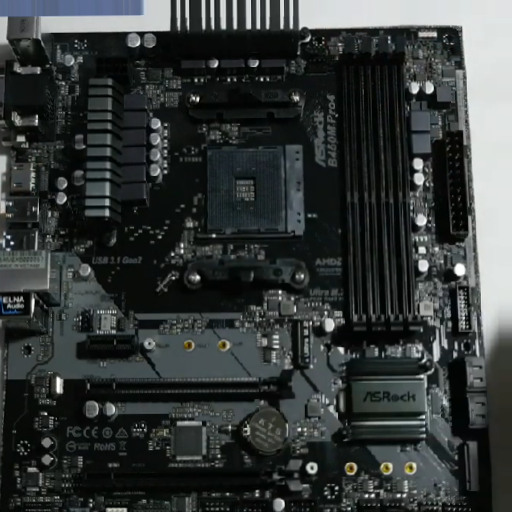CPU: (205, 147, 298, 231)
GPU: (78, 458, 304, 494), (81, 370, 296, 400)
MOTHERBOARD: (1, 27, 489, 512)
RAM: (342, 40, 421, 338)
SSD: (460, 440, 480, 495), (297, 320, 315, 365)
